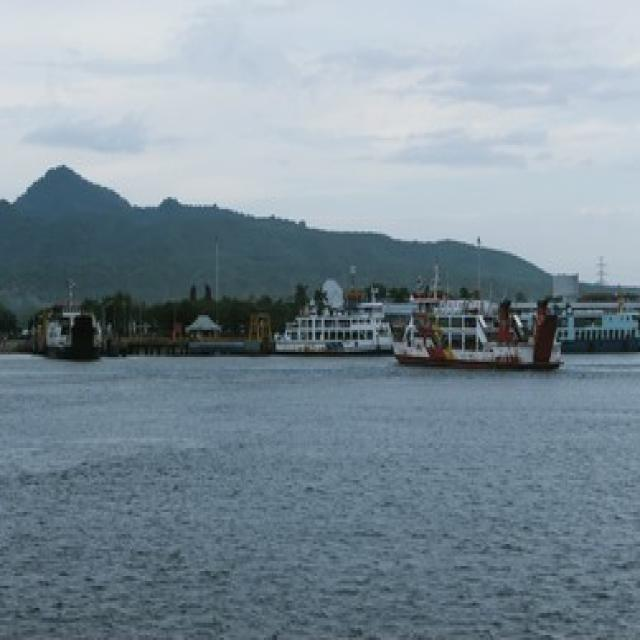passenger ship: (384, 280, 568, 404), (272, 267, 388, 361)
